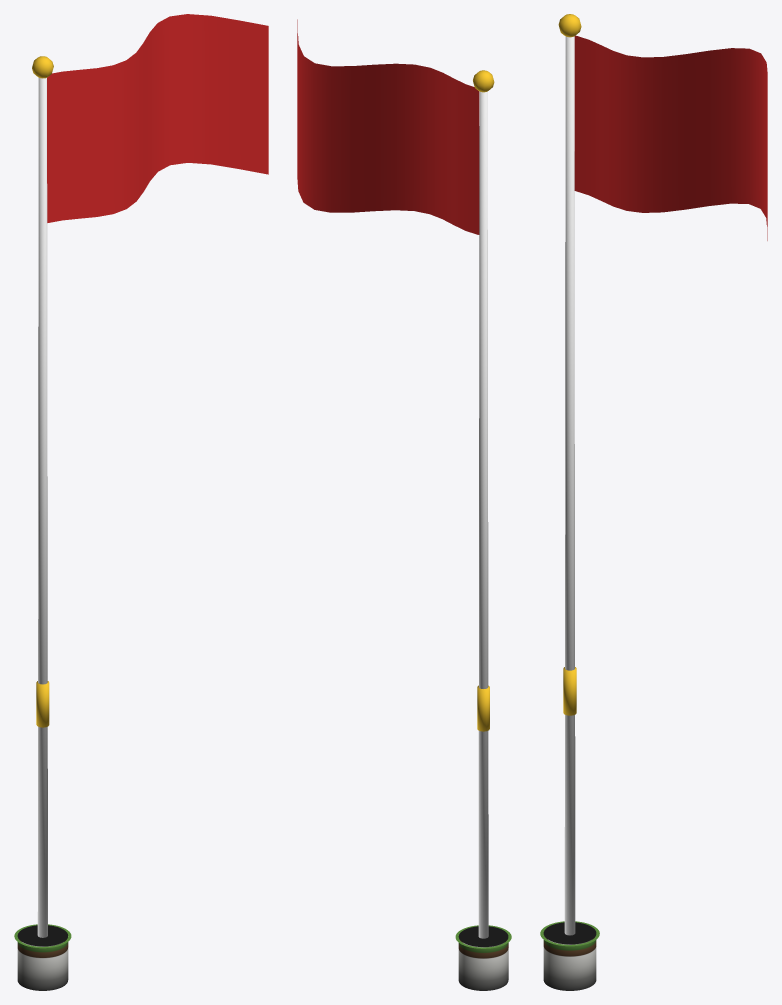
File: pin.fbx
The picture shows the model from 3 angles, left to right: view 1: azimuth 30°, elevation 25°; view 2: azimuth 150°, elevation 25°; view 3: azimuth 330°, elevation 25°; orthographic projection. The views are drawn at different scales.
Parts seen in each view (by area): view 1: FLAG, FLAG_POLE, CUP, CUP_MOUTH; view 2: FLAG, FLAG_POLE, CUP, CUP_MOUTH; view 3: FLAG, FLAG_POLE, CUP, CUP_MOUTH.
Part boxes in pixels (<box>): FLAG: <box>47,14,268,222</box>; FLAG_POLE: <box>32,56,53,946</box>; CUP: <box>17,937,68,990</box>; CUP_MOUTH: <box>17,925,67,946</box>; FLAG: <box>297,19,479,234</box>; FLAG_POLE: <box>473,70,494,947</box>; CUP: <box>458,938,508,990</box>; CUP_MOUTH: <box>458,926,508,946</box>; FLAG: <box>574,35,767,240</box>; FLAG_POLE: <box>558,14,581,944</box>; CUP: <box>543,936,596,990</box>; CUP_MOUTH: <box>543,922,596,944</box>.
Bounding box in the file's own units: 0.572 × 2.18 × 0.1754.
